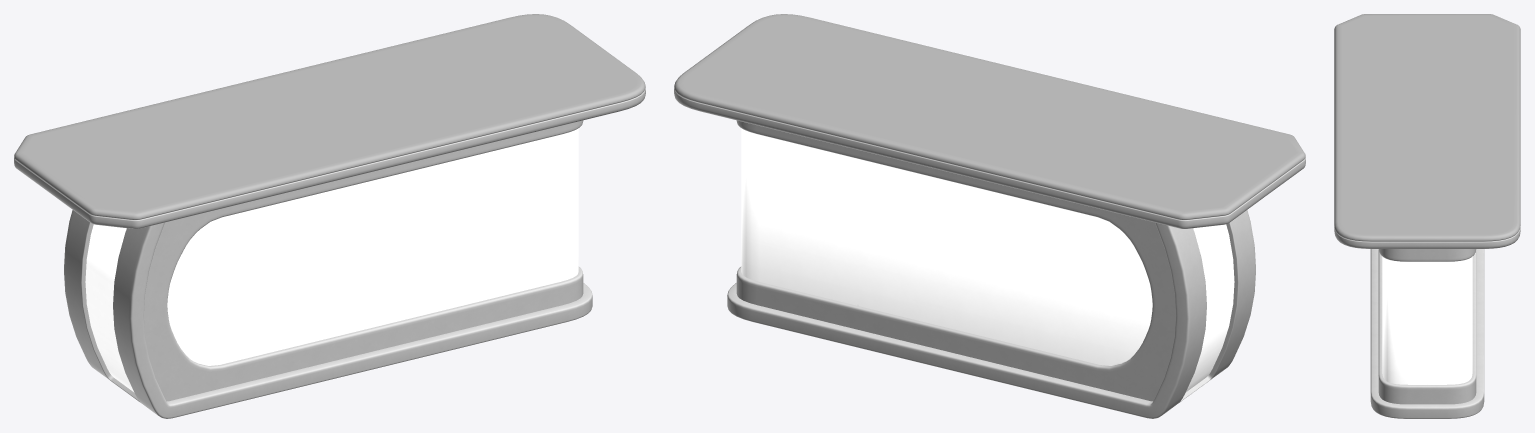
The model's file is BarTable09_2.FBX.
3 renders of one model, left to right at view 1: azimuth 30°, elevation 25°; view 2: azimuth 150°, elevation 25°; view 3: azimuth 270°, elevation 25°, orthographic. The views are drawn at different scales.
Parts seen in each view (by area): view 1: BarTable09_2; view 2: BarTable09_2; view 3: BarTable09_2.
Part boxes in pixels (x1,y1,x2,y2): BarTable09_2: [14, 14, 645, 418]; BarTable09_2: [674, 14, 1305, 418]; BarTable09_2: [1334, 14, 1520, 418].
Size of what is drawn, in the model's own units: 2.72 by 1.1 by 0.9552.
